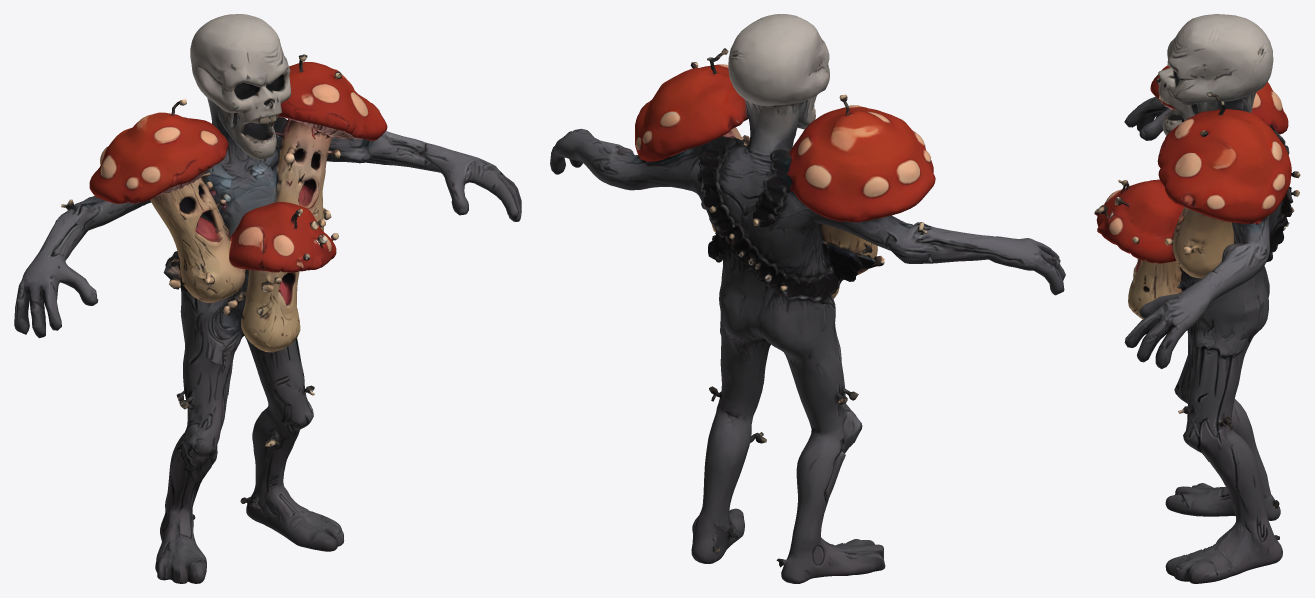
The model's file is fungal_choir.glb.
The picture shows the model from 3 angles, left to right: view 1: azimuth 30°, elevation 25°; view 2: azimuth 150°, elevation 25°; view 3: azimuth 270°, elevation 25°; orthographic projection. The views are drawn at different scales.
Visible parts, largest first — view 1: fungal_choir; view 2: fungal_choir; view 3: fungal_choir.
Boxes of the visible parts, x1,y1,x2,y2 form: fungal_choir: [14, 14, 521, 583]; fungal_choir: [550, 14, 1065, 583]; fungal_choir: [1094, 14, 1300, 583].
Size of the model in its own units: 1.8 by 1.8 by 0.6438.
Materials: 1 (1 with a texture image).
